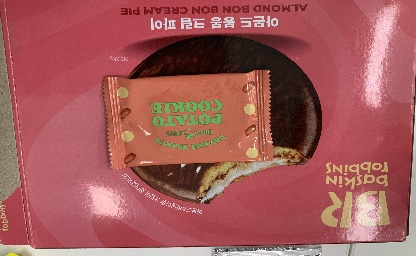pota: (98, 67, 278, 172)
